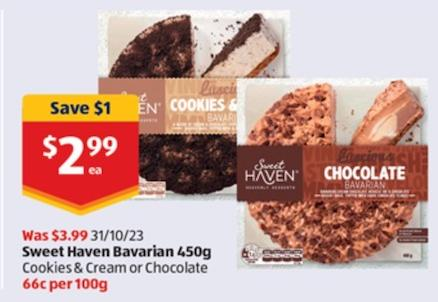description_block: (17, 244, 217, 277)
price_main: (18, 117, 141, 215)
product_image_block: (113, 5, 428, 268)
promo_text_block: (17, 89, 145, 120)
unit_price_block: (17, 276, 121, 293)
